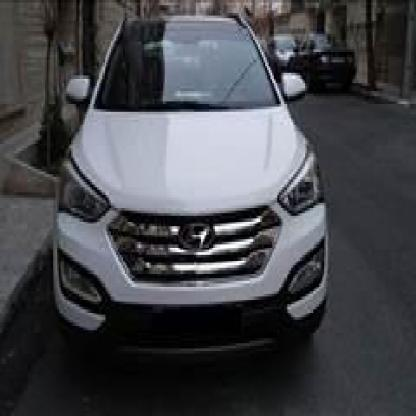Car: (52, 8, 326, 356), (298, 23, 354, 86), (264, 29, 298, 76)
